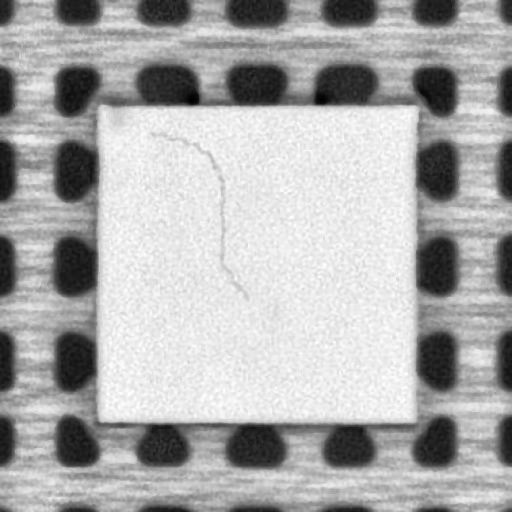DIE_CRACK: (148, 130, 248, 302)
